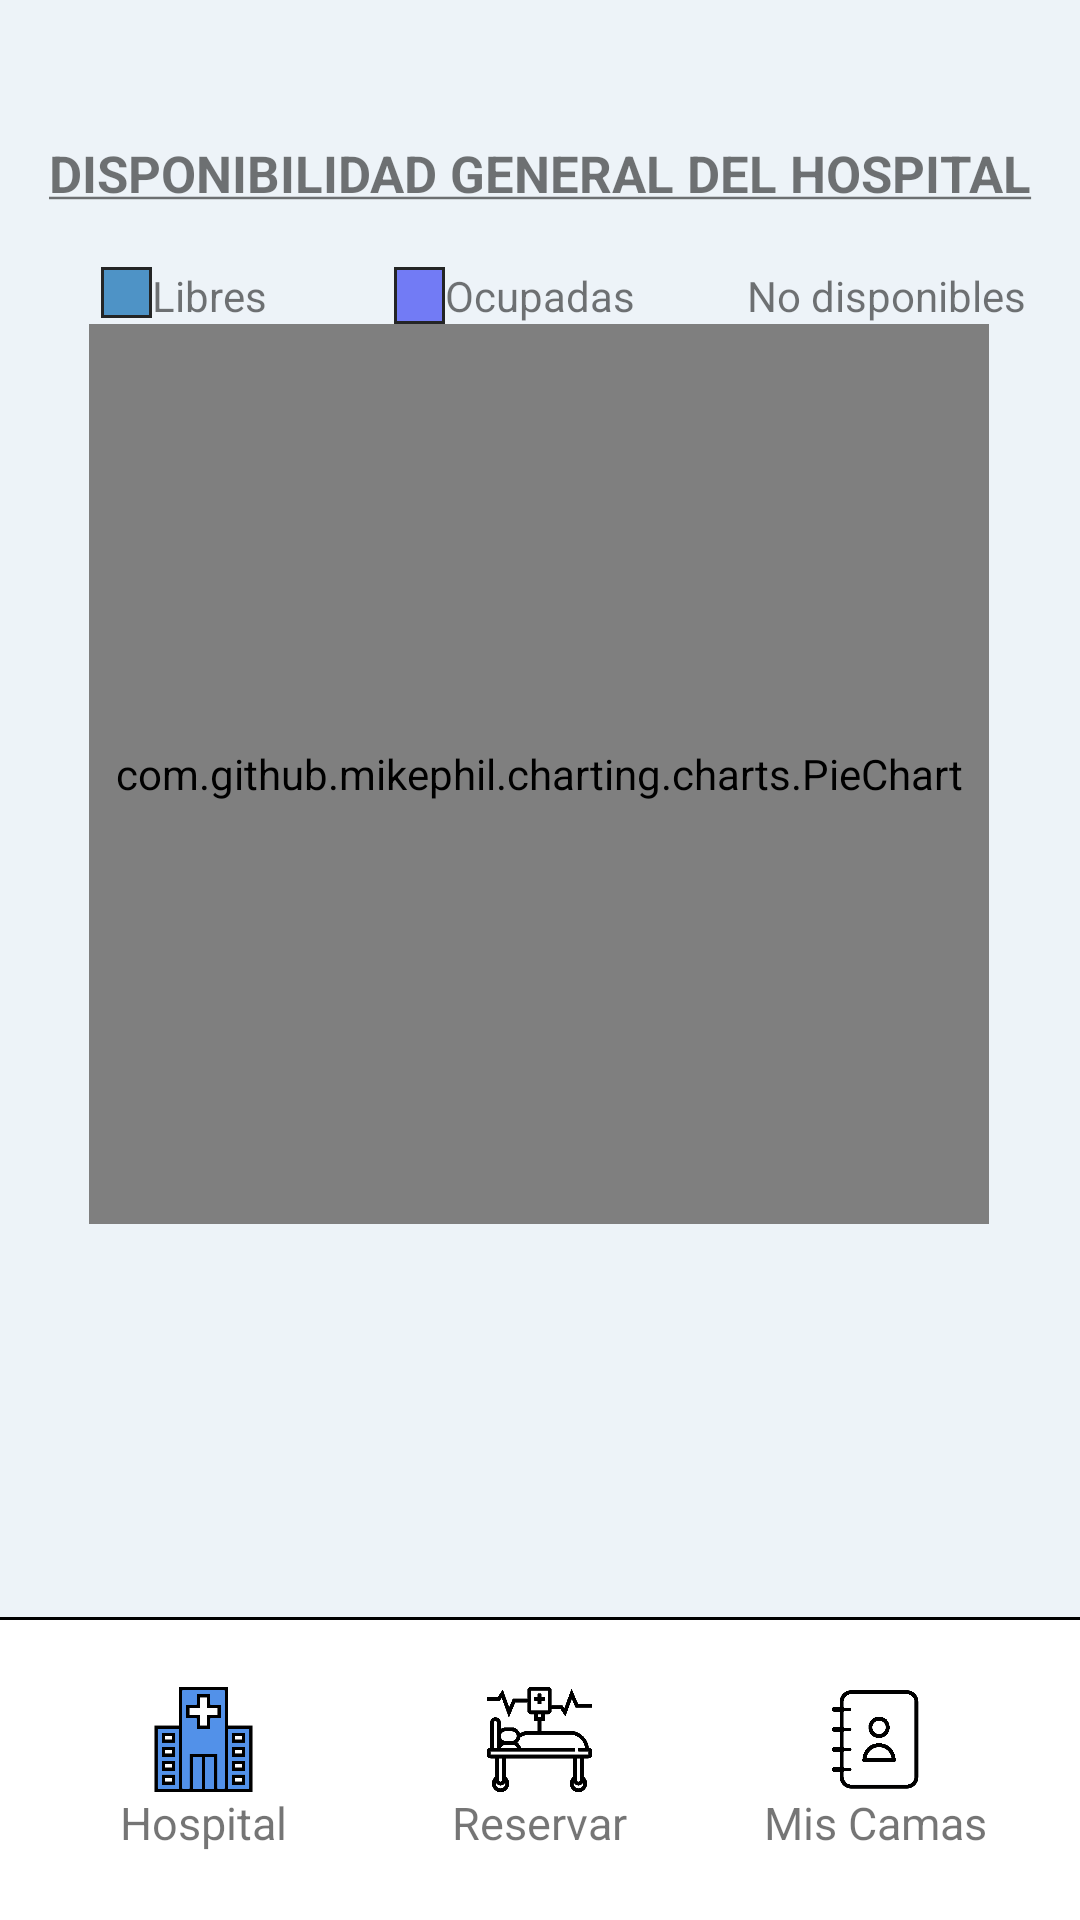

Named icons in this screenshot (1080w x 1920h) and their centers, (x=x, y=y):
healthblue: (x=203, y=1739)
patient: (x=539, y=1739)
